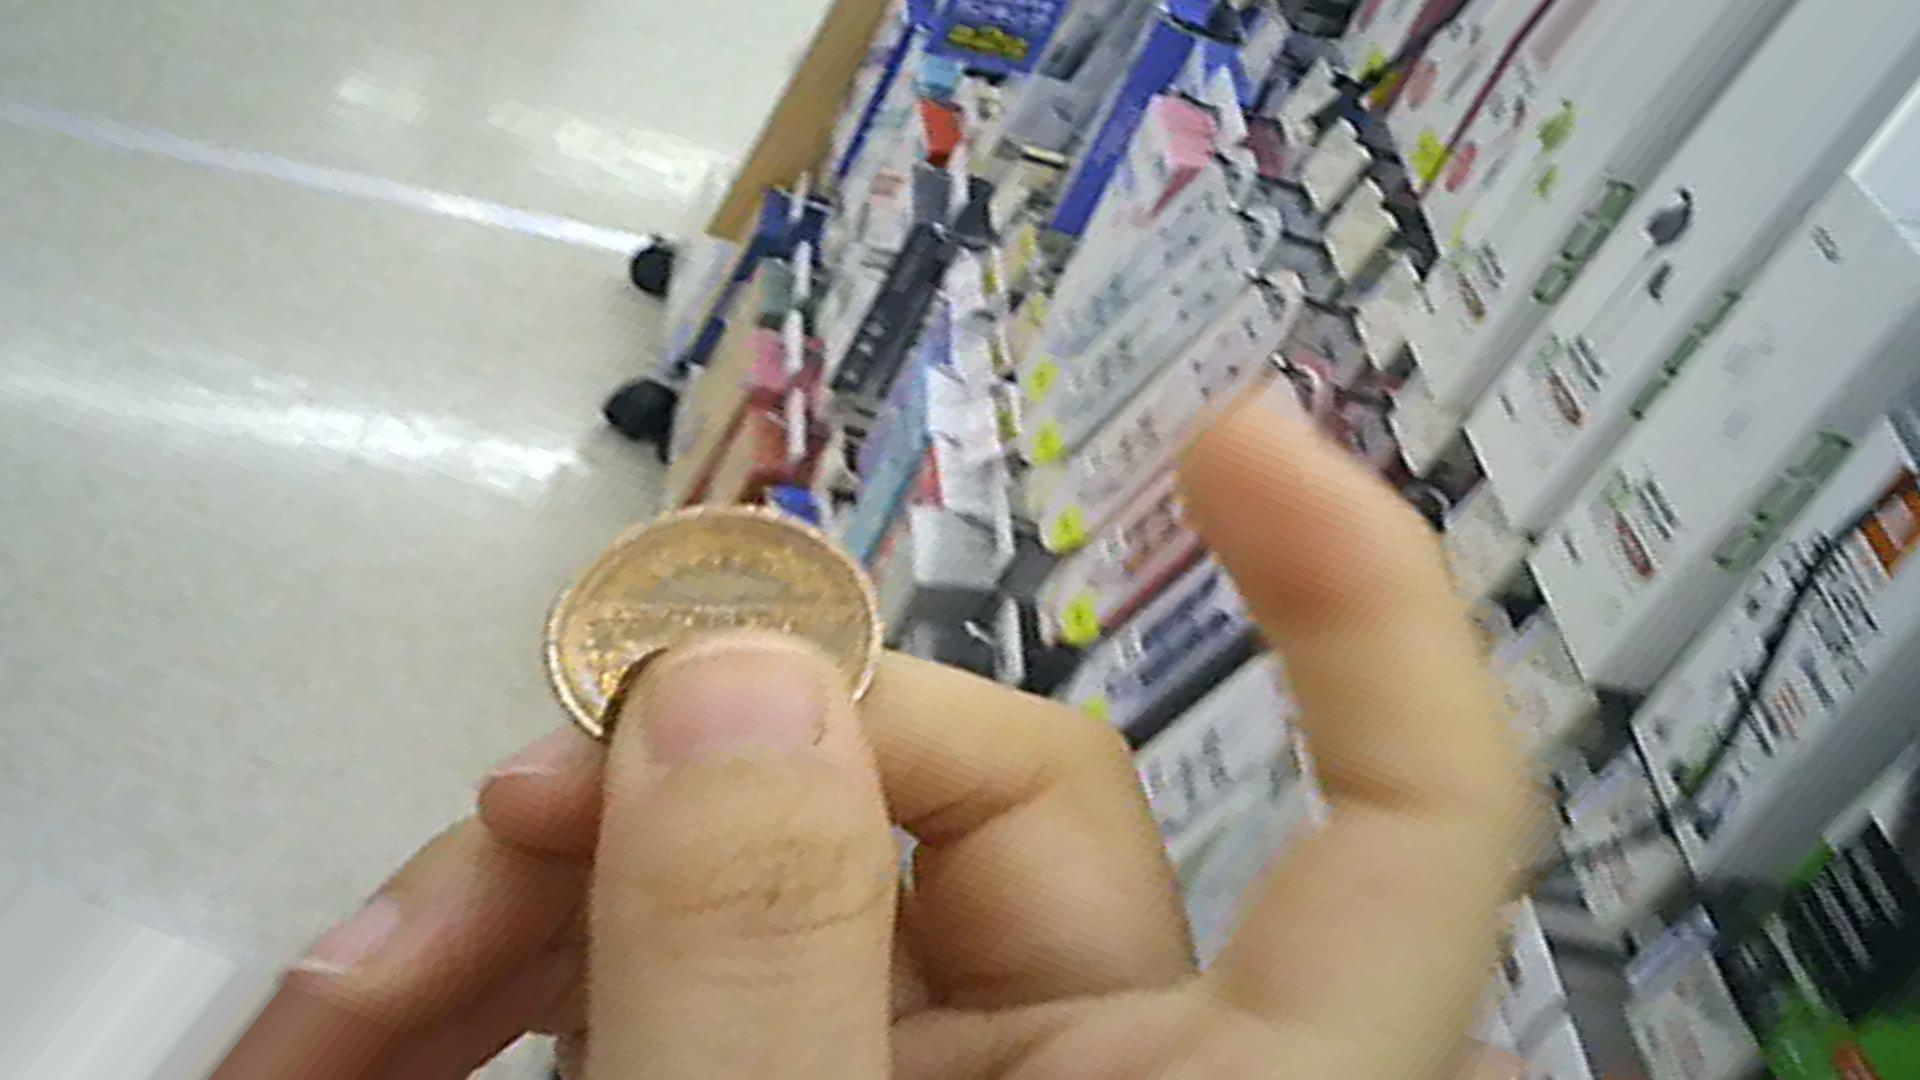10 Yen: (535, 500, 876, 764)
